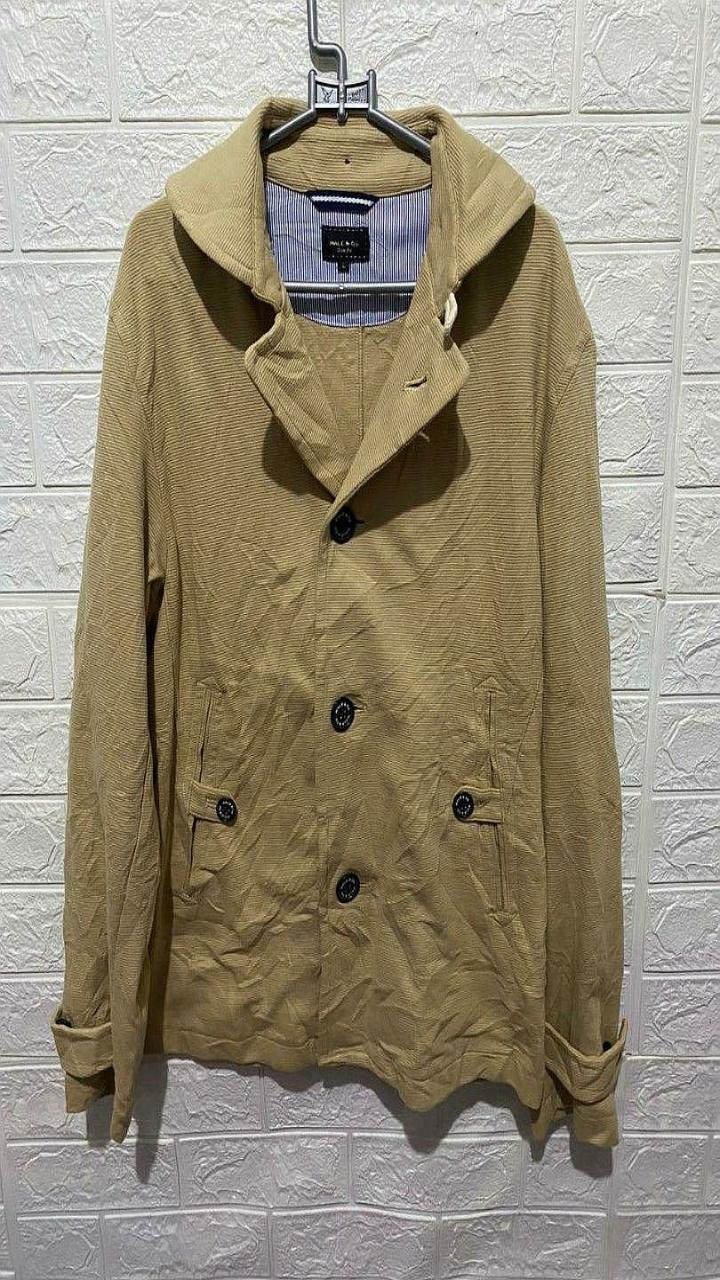Sports_Jacket: (51, 96, 626, 1145)
